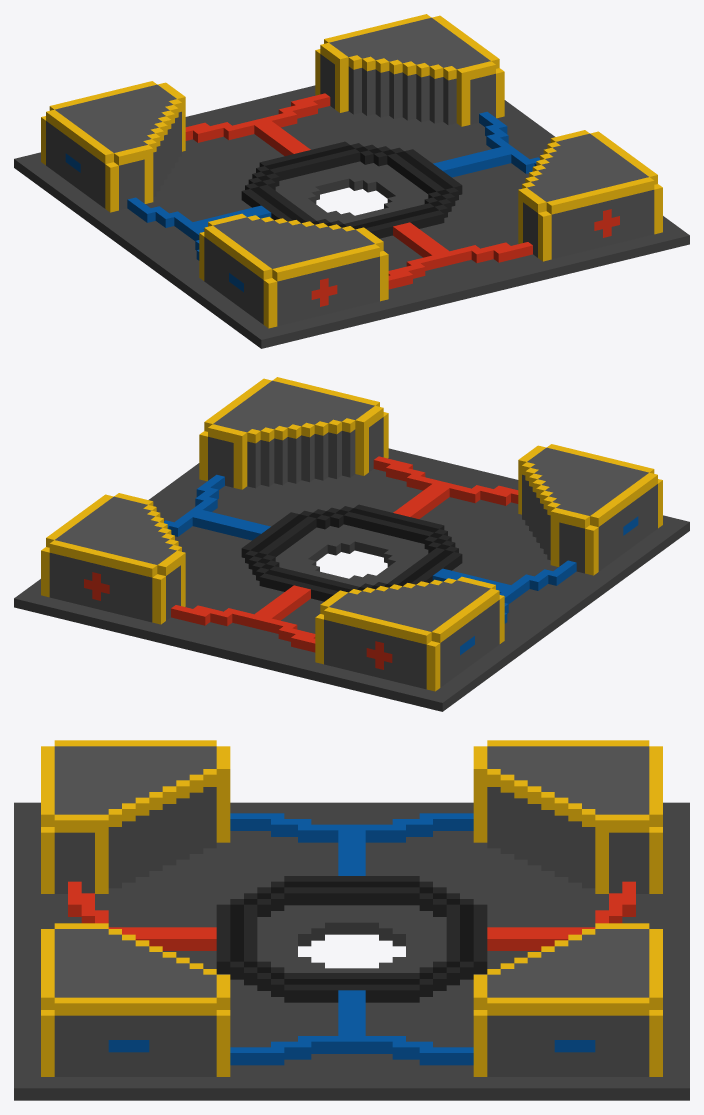
The model's file is крутящий елемент (основа).obj.
3 renders of one model, top to bottom at view 1: azimuth 30°, elevation 25°; view 2: azimuth 150°, elevation 25°; view 3: azimuth 270°, elevation 25°, orthographic. The views are drawn at different scales.
Size of the model in its own units: 5 by 0.7 by 5.
1 material, 1 textured.
